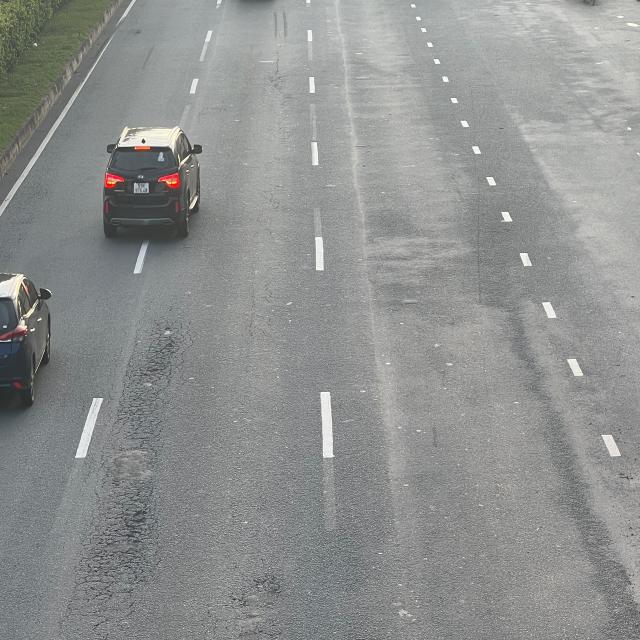car: (102, 125, 204, 238), (0, 272, 54, 409)
